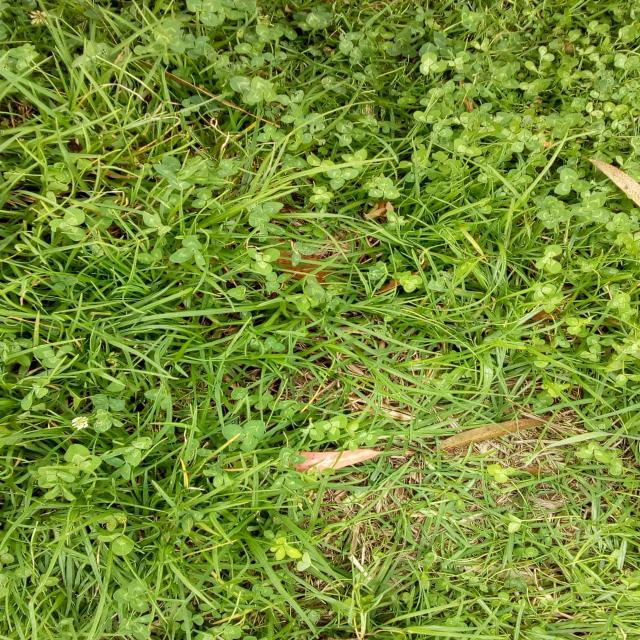Four Leaf Clover: (536, 204, 571, 229)
